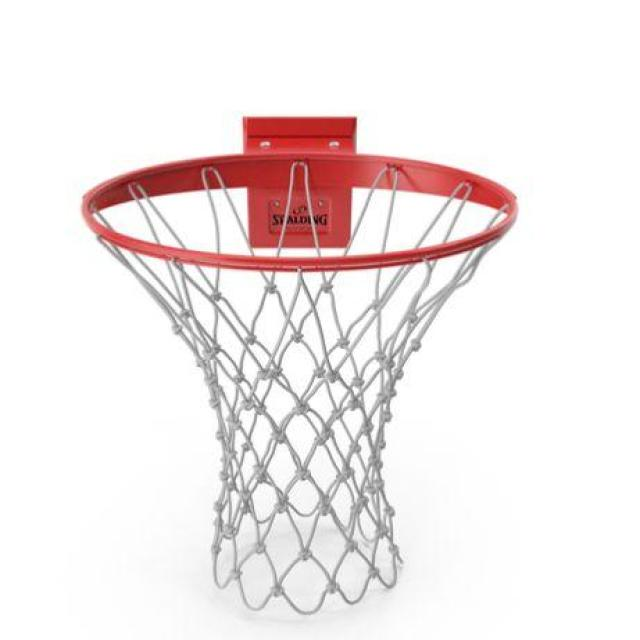hoop: (39, 121, 565, 638)
